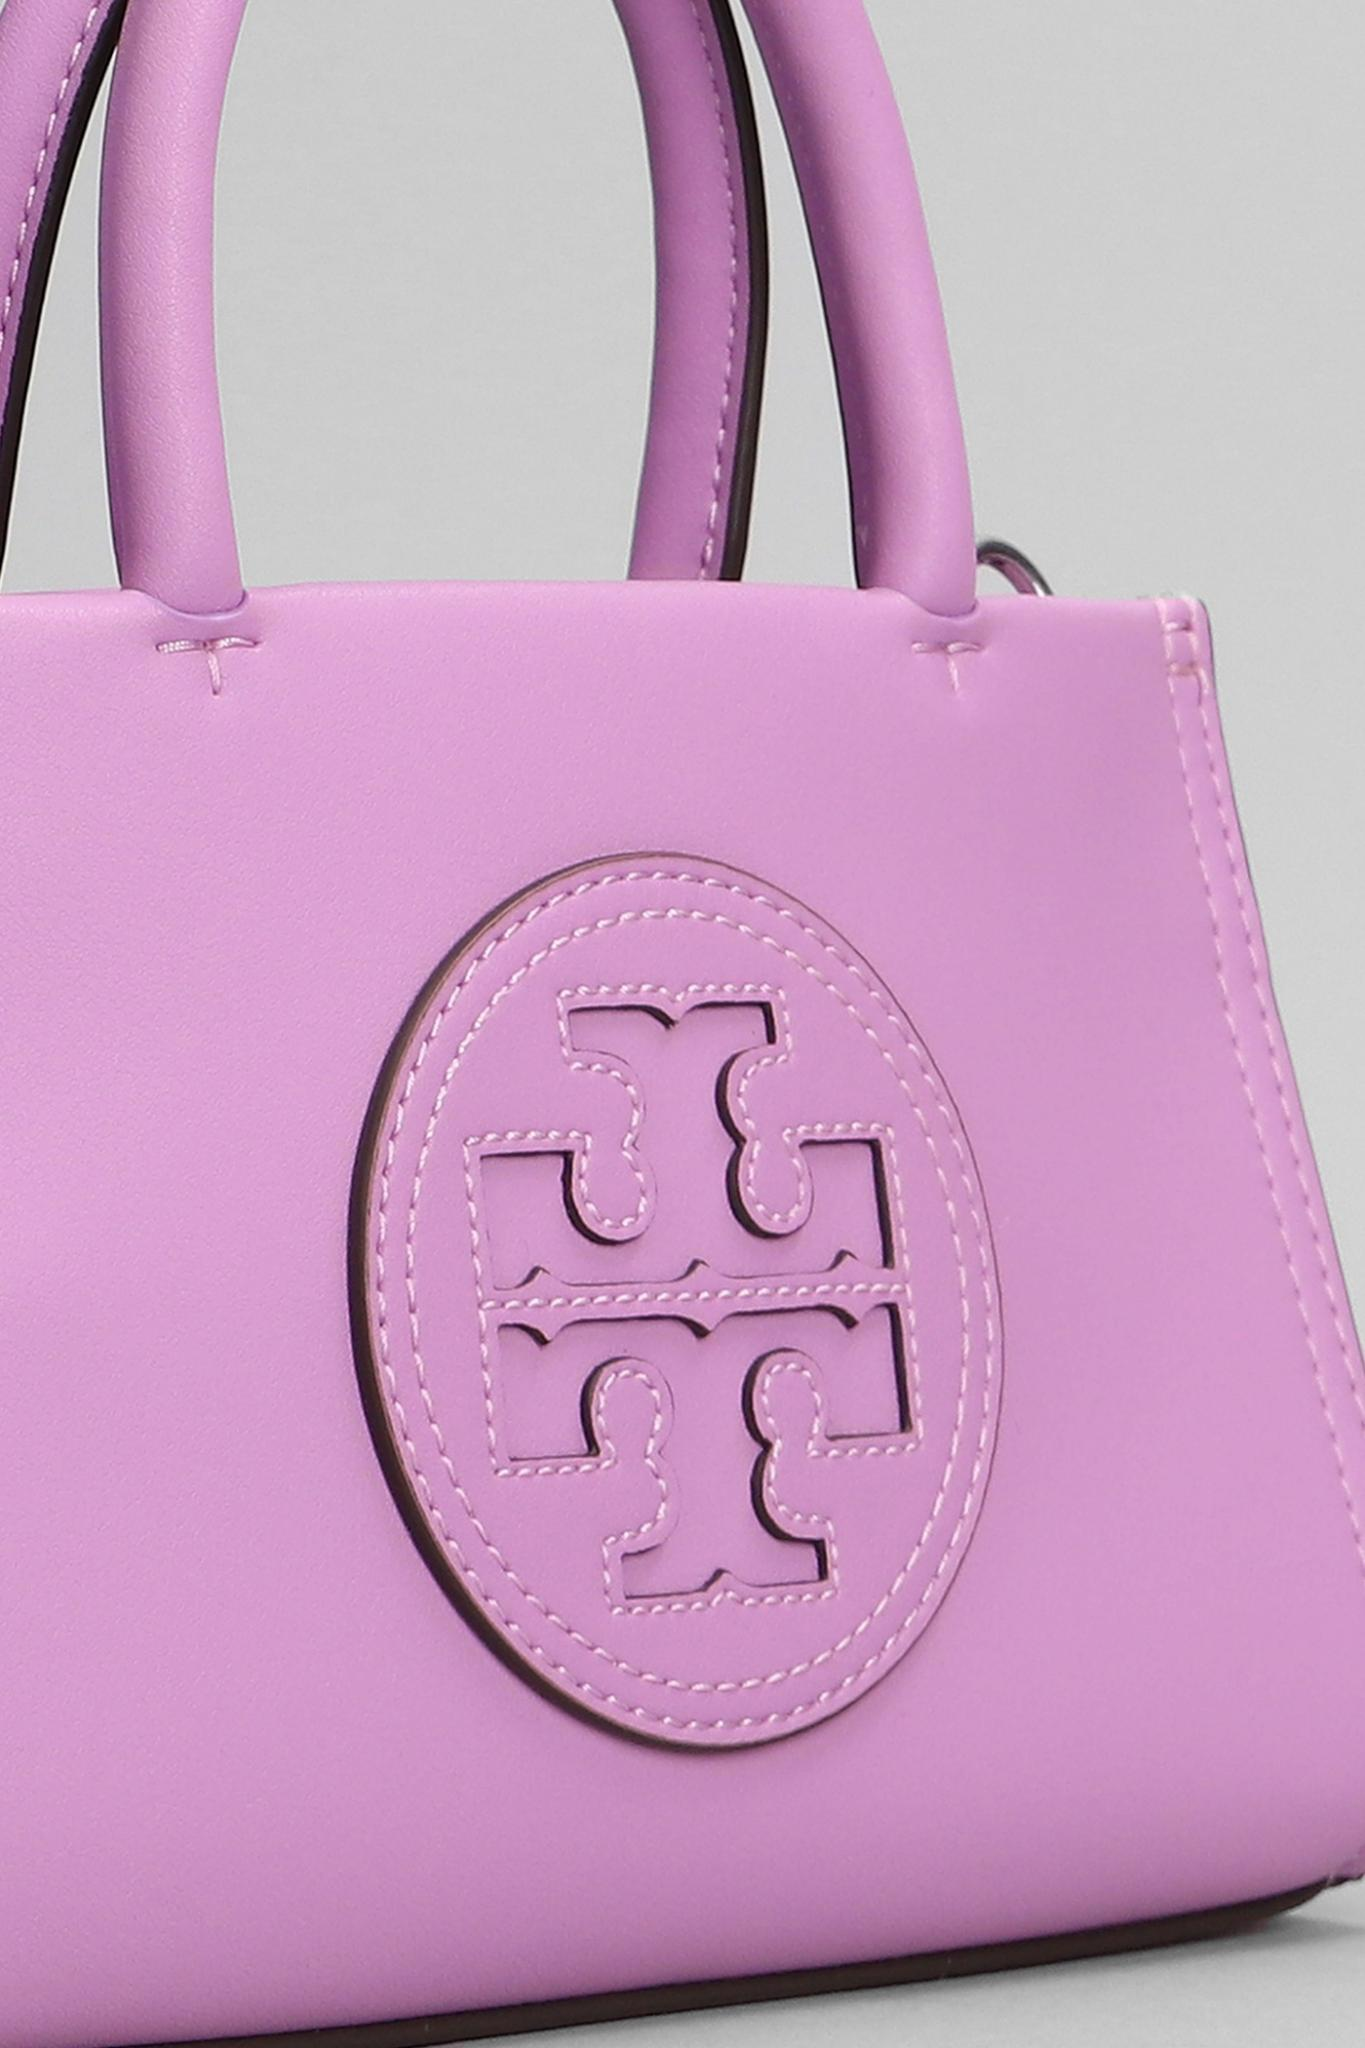TORY-BURCH: (344, 845, 1005, 1757)
